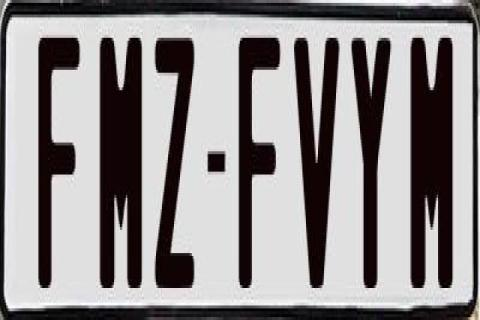F: (236, 35, 284, 291), (38, 38, 80, 300)
M: (99, 29, 143, 285), (408, 35, 450, 297)
V: (292, 29, 342, 297)
Y: (352, 38, 398, 306)
Z: (155, 38, 197, 302)
